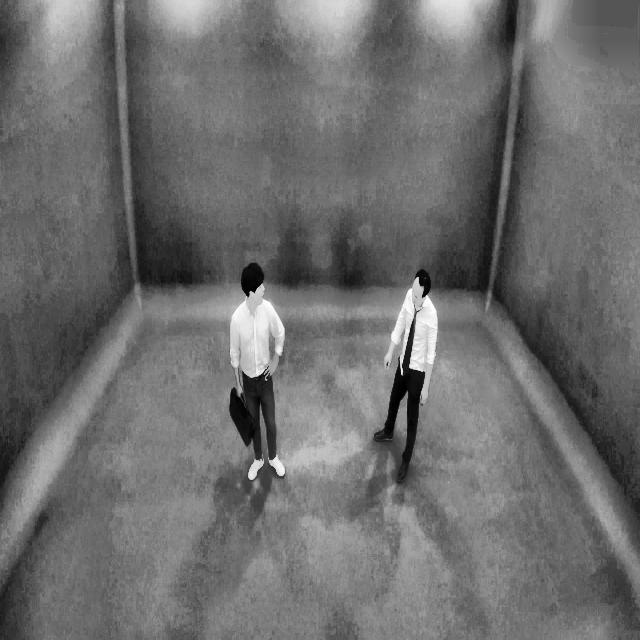assult: (205, 246, 440, 481)
